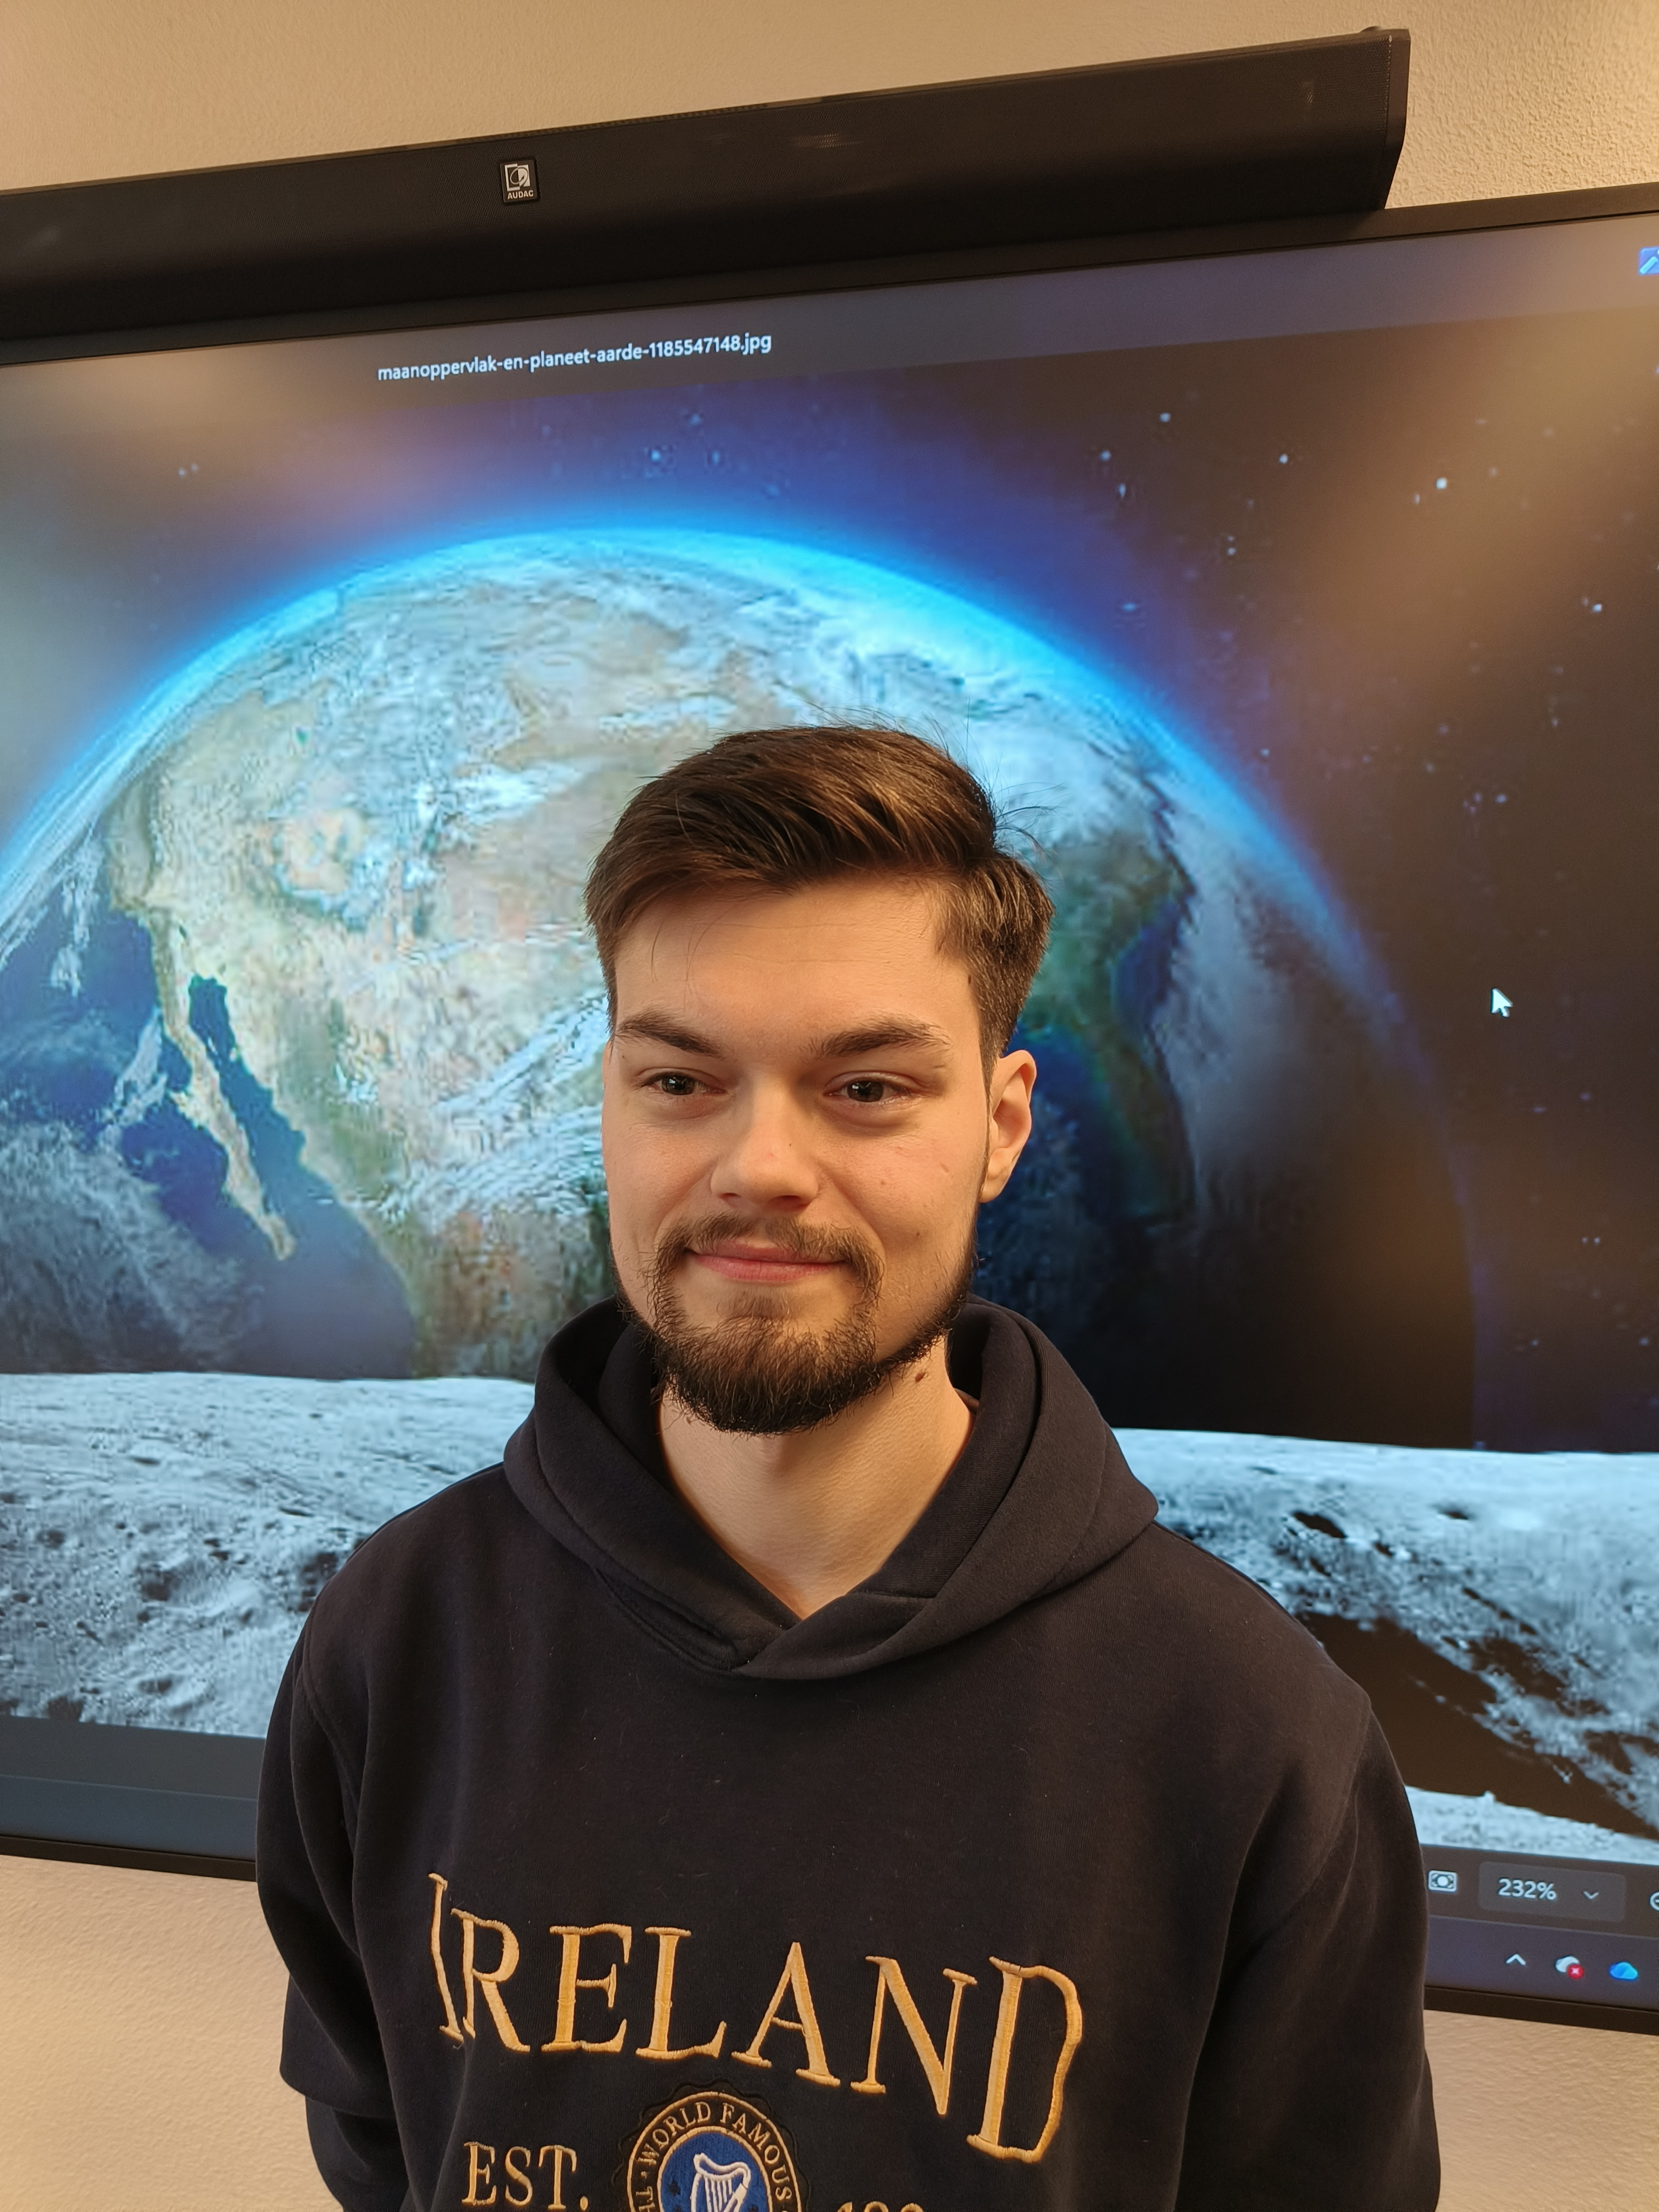face: (569, 730, 1076, 1365)
